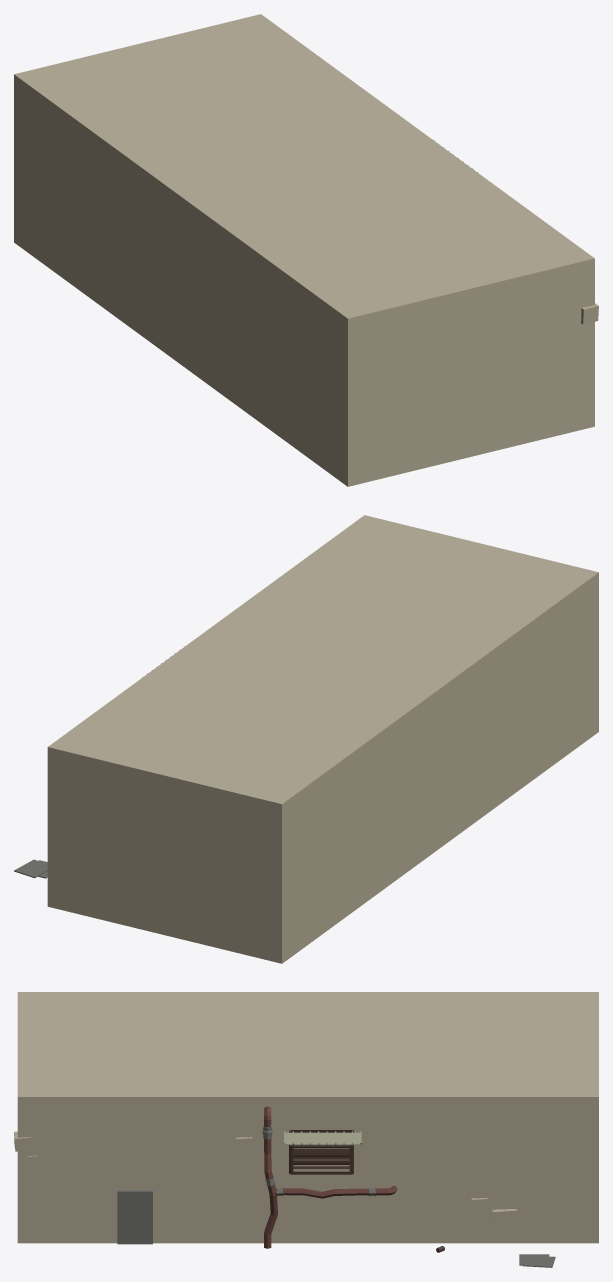
The model's file is crack_house.fbx.
The picture shows the model from 3 angles, top to bottom: view 1: azimuth 30°, elevation 25°; view 2: azimuth 150°, elevation 25°; view 3: azimuth 270°, elevation 25°; orthographic projection. The views are drawn at different scales.
Parts seen in each view (by area): view 1: polySurface1008; view 2: polySurface1008; view 3: polySurface1008, polySurface1006, polySurface1198, polySurface1165, polySurface1122, polySurface1125, pCube189, polySurface326.
Part boxes in pixels (x1,y1,x2,y2): polySurface1008: [14, 14, 594, 486]; polySurface1008: [47, 515, 598, 963]; polySurface1008: [17, 992, 598, 1243]; polySurface1006: [117, 1190, 152, 1244]; polySurface1198: [289, 1130, 353, 1174]; polySurface1165: [284, 1131, 361, 1145]; polySurface1122: [264, 1106, 277, 1248]; polySurface1125: [274, 1186, 397, 1198]; pCube189: [492, 1209, 517, 1231]; polySurface326: [519, 1254, 555, 1267].
Bounding box in the file's own units: 44.94 × 23.42 × 84.57.
